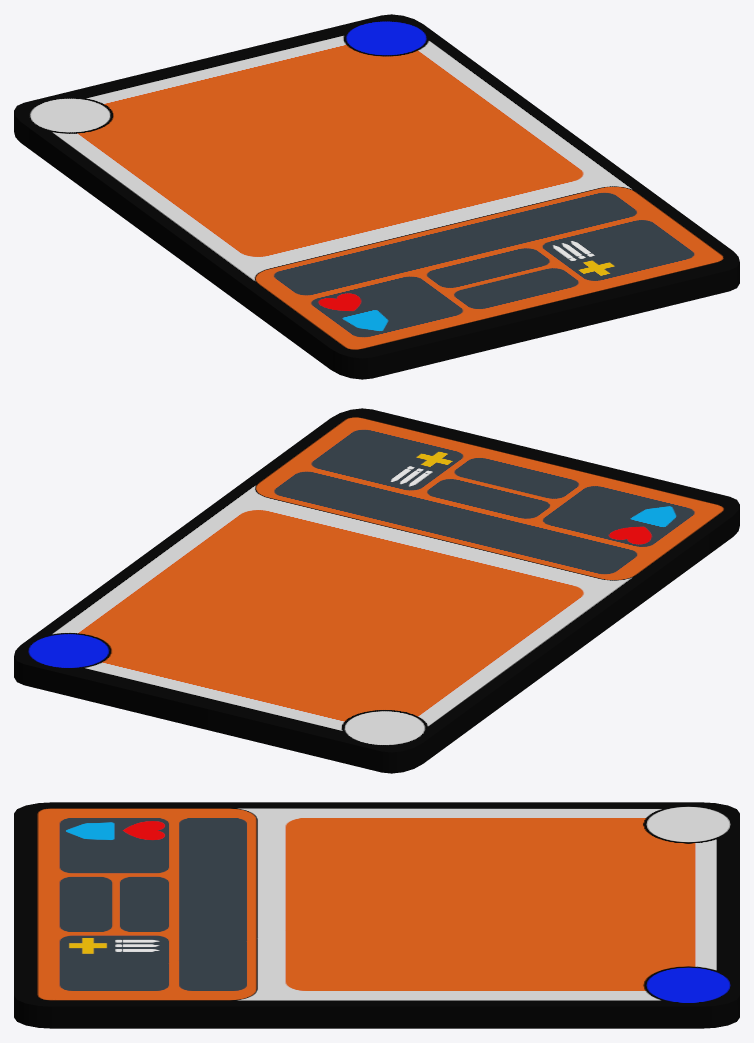
The model's file is OverwatchCard.fbx.
3 views of the same model, one above another, from view 1: azimuth 30°, elevation 25°; view 2: azimuth 150°, elevation 25°; view 3: azimuth 270°, elevation 25° (orthographic). The views are drawn at different scales.
Visible parts, largest first — view 1: Cube; view 2: Cube; view 3: Cube.
Boxes of the visible parts, bbox=[...] form: Cube: bbox=[14, 14, 739, 379]; Cube: bbox=[14, 408, 739, 773]; Cube: bbox=[14, 802, 739, 1028].
Bounding box in the file's own units: 60 × 3 × 90.
